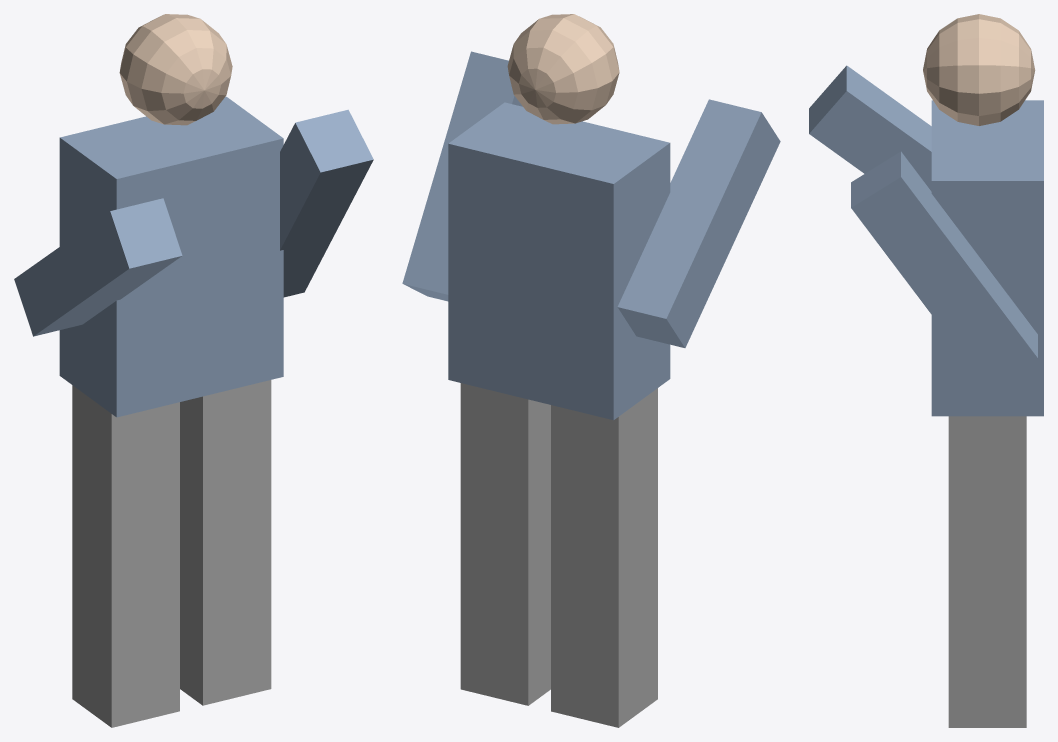
Rendered from open_sliding_door.glb.
3 views of the same model, side by side, from view 1: azimuth 30°, elevation 25°; view 2: azimuth 150°, elevation 25°; view 3: azimuth 270°, elevation 25° (orthographic).
Parts seen in each view (by area): view 1: torso, leg_l, leg_r, arm_l, arm_r, head; view 2: torso, leg_l, leg_r, arm_l, head, arm_r; view 3: leg_r, torso, arm_r, head, arm_l.
Boxes of the visible parts, x1,y1,x2,y2 form: torso: (59,96,283,417); leg_l: (72,385,179,727); leg_r: (180,380,271,705); arm_l: (14,198,182,336); arm_r: (280,109,373,297); head: (119,14,232,125); torso: (448,102,670,420); leg_l: (551,388,657,727); leg_r: (460,383,550,705); arm_l: (617,99,780,347); head: (507,14,619,124); arm_r: (402,51,522,301); leg_r: (948,416,1026,727); torso: (931,100,1043,416); arm_r: (851,151,1037,388); head: (923,14,1035,125); arm_l: (809,65,931,191).
Size of the model in its own units: 0.7001 by 1.71 by 0.5428.
